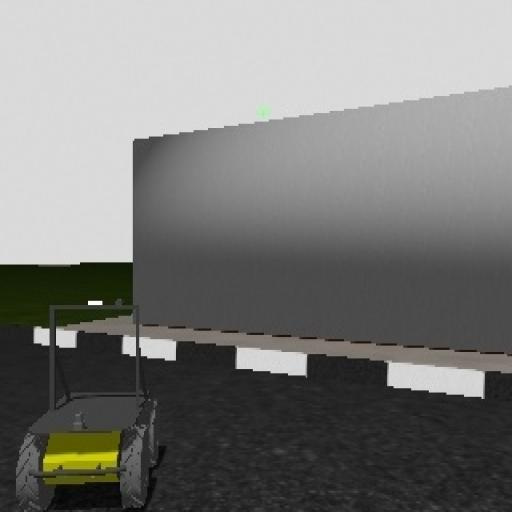huskya200: (22, 274, 161, 510)
